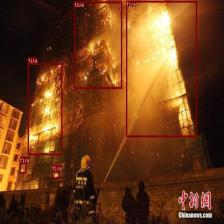fire: (126, 1, 197, 136), (74, 2, 122, 88), (28, 63, 62, 155), (20, 162, 26, 174), (52, 170, 59, 178)
